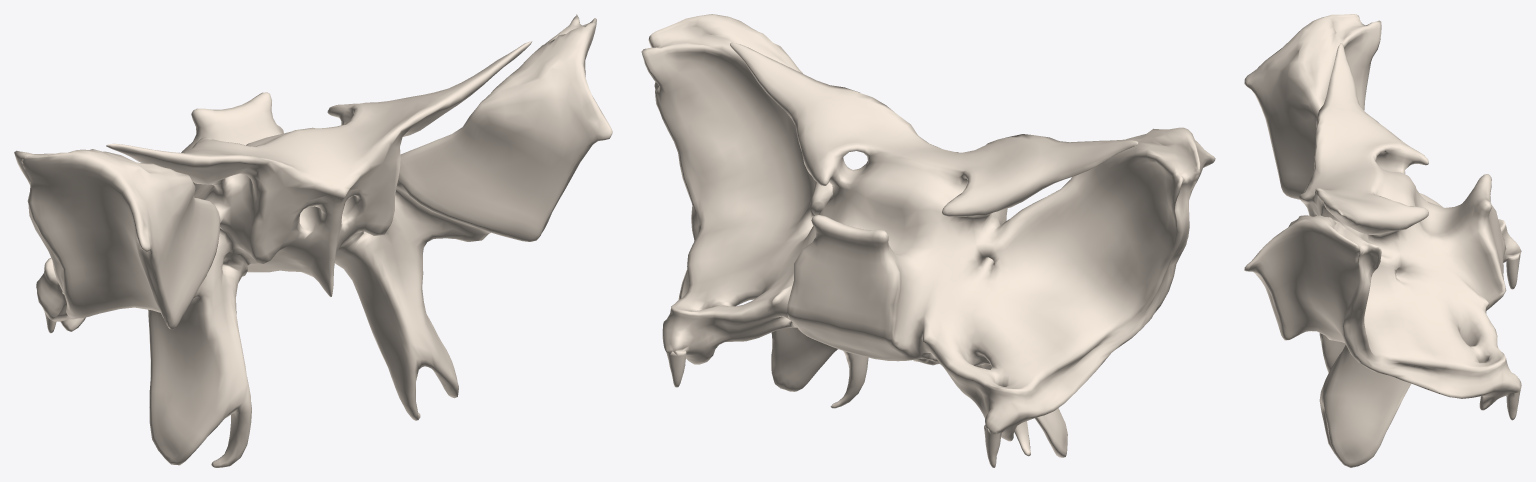
File: sphenoid_spine_s119.glb
The picture shows the model from 3 angles, left to right: view 1: azimuth 30°, elevation 25°; view 2: azimuth 150°, elevation 25°; view 3: azimuth 270°, elevation 25°; orthographic projection. The views are drawn at different scales.
Visible parts, largest first — view 1: Sphenoid bone; view 2: Sphenoid bone; view 3: Sphenoid bone.
Boxes of the visible parts, <box> form: Sphenoid bone: <box>14,14,612,467</box>; Sphenoid bone: <box>641,14,1215,467</box>; Sphenoid bone: <box>1244,14,1521,467</box>.
Size of the model in its own units: 0.1092 by 0.0659 by 0.0552.
